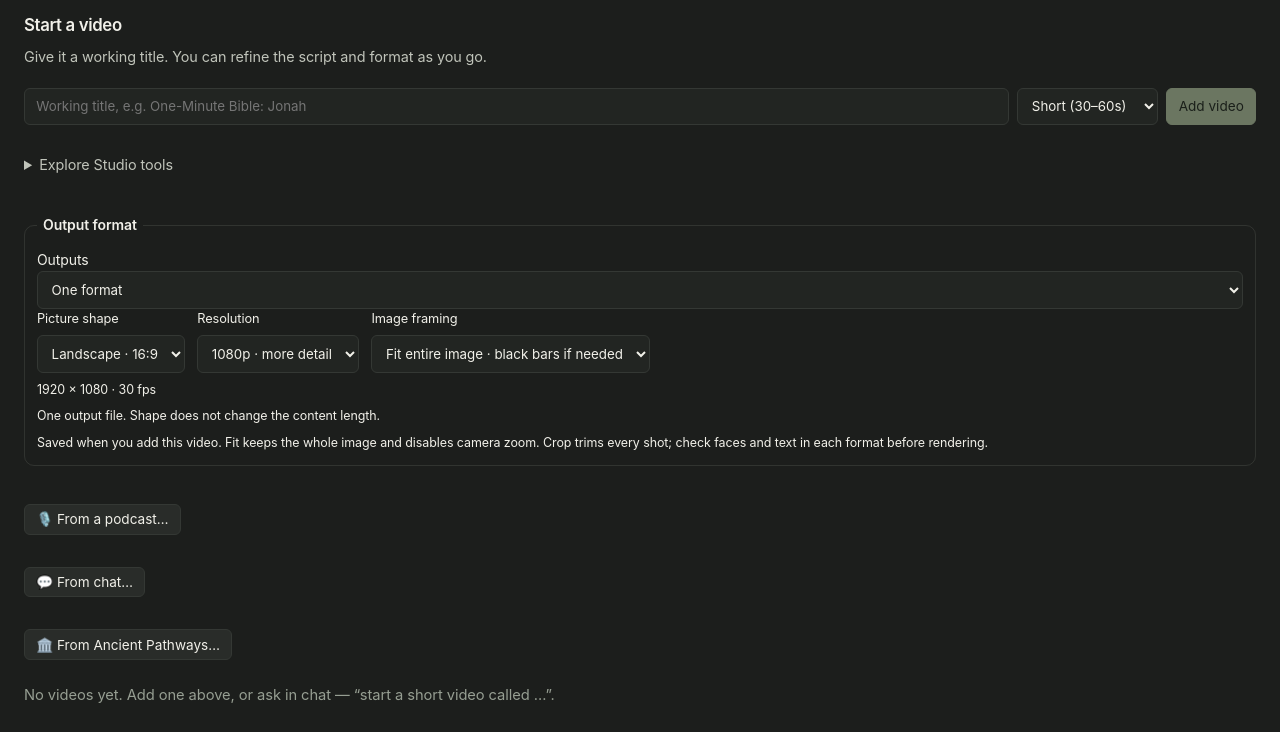
Scenario: Media Studio — from a podcast feed › closing the section clears it rather than leaving stale results behind
(page scrolled)
Click the button "From a podcast…" at (102, 519), box [24,504,181,535]
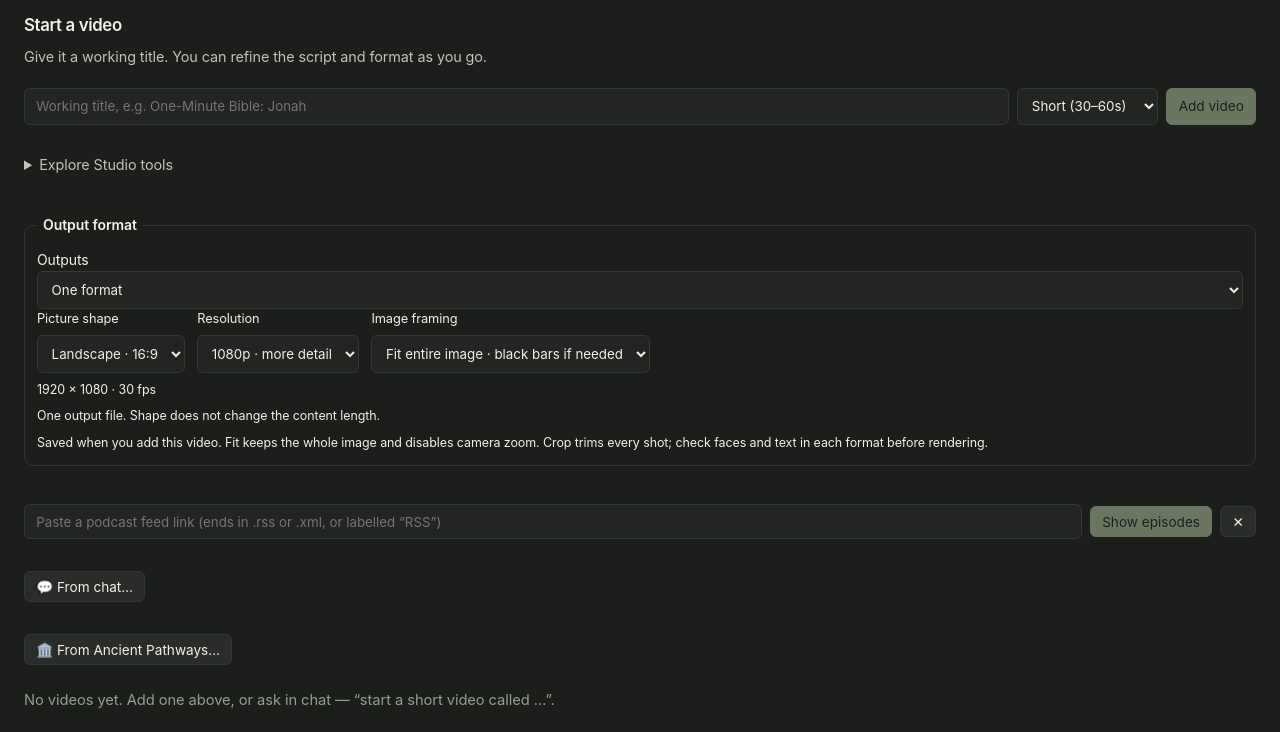
Replace the text in the field labelled "podcast feed link" with "https://example.com/feed.xml" at (553, 522), box [24,504,1082,540]
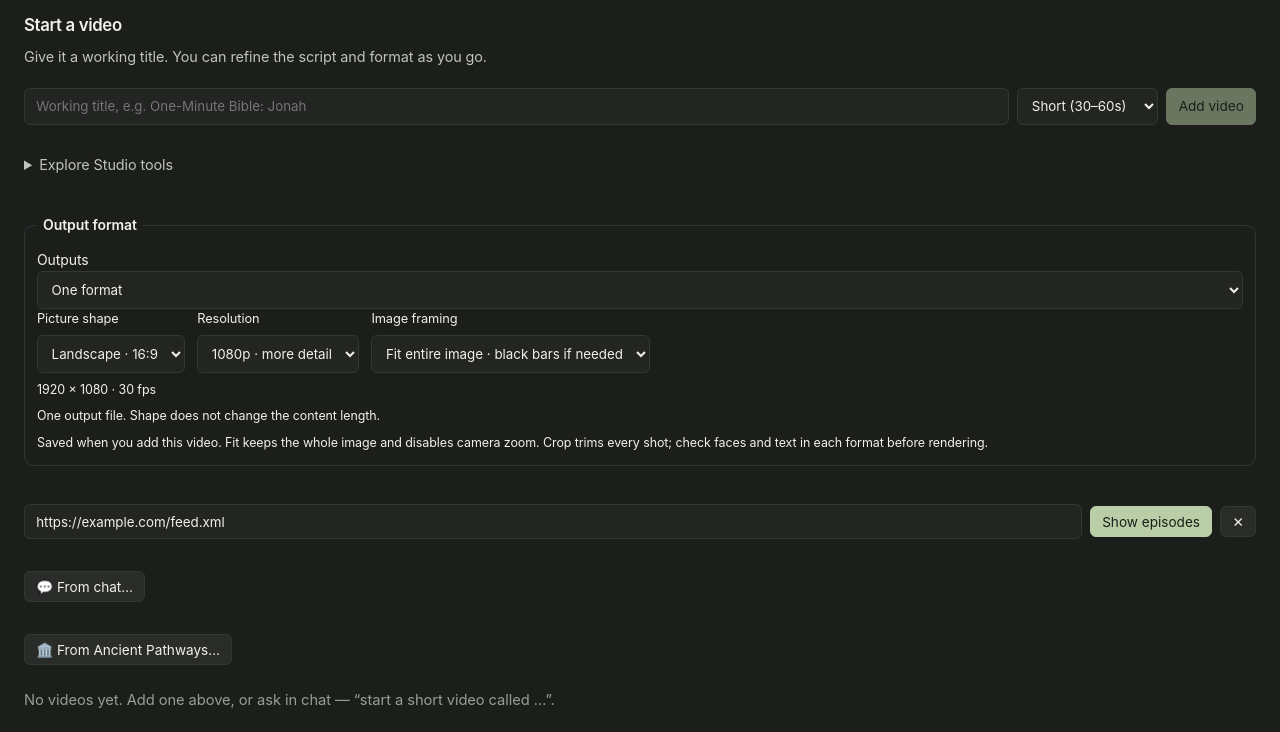
Click the button "Show episodes" at (1151, 522), box [1090,506,1212,537]
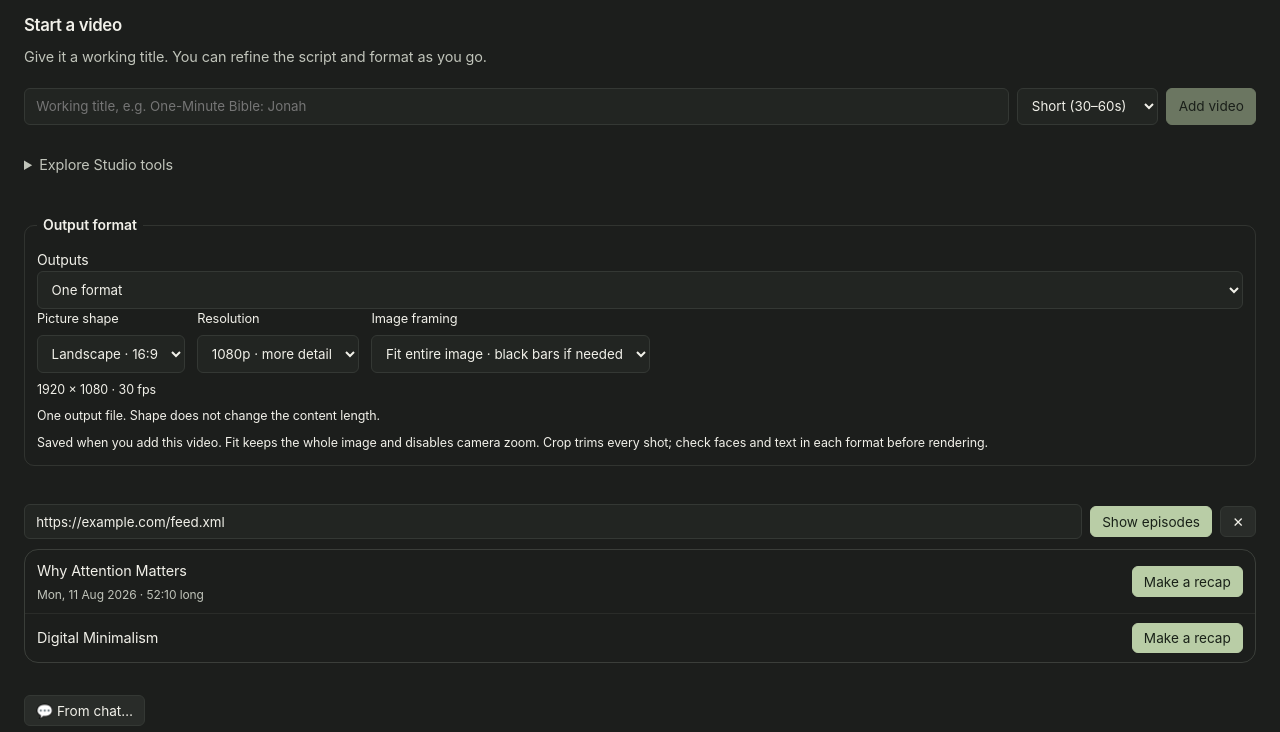
expect the text "Why Attention Matters" is shown: met, box [37,560,204,582]
Click the button named "Close podcast section" at (1238, 522), box [1220,506,1256,537]
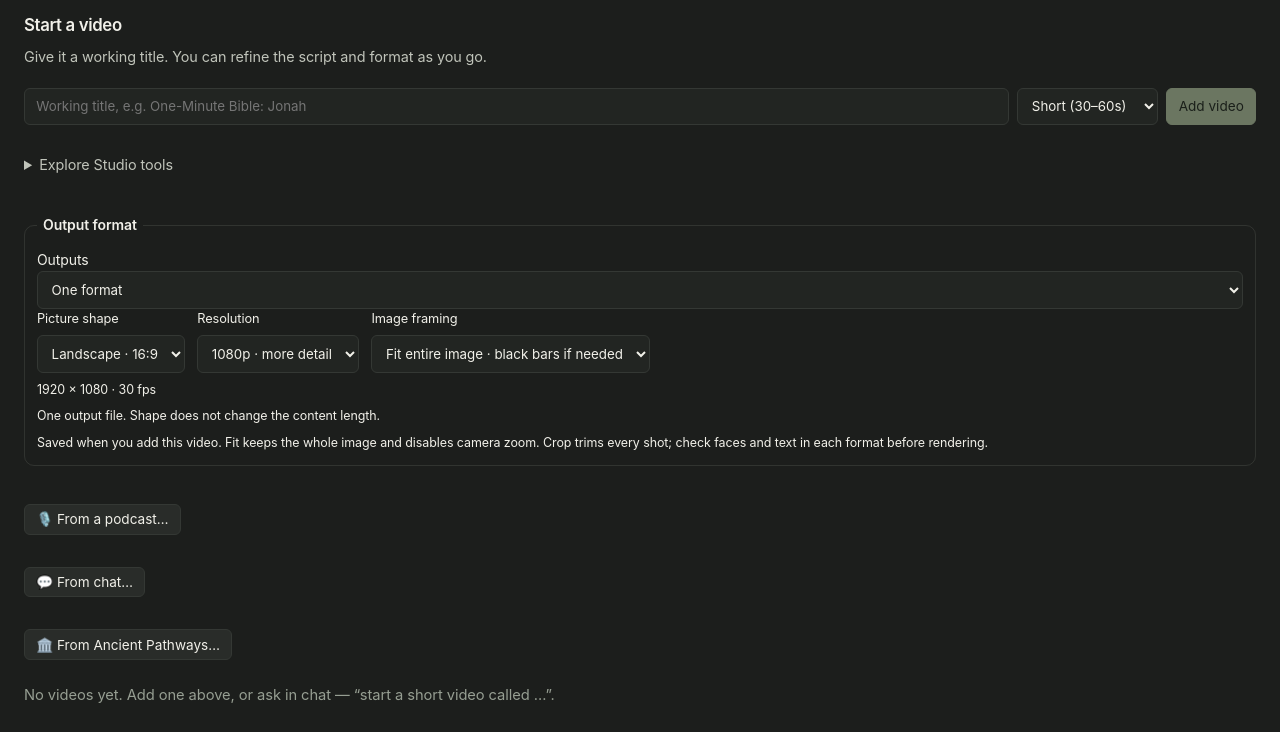
expect the text "Why Attention Matters" is gone: met
expect the button "From a podcast…" is shown: met, box [24,504,181,535]
